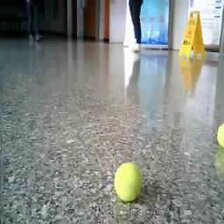tennis: (114, 163, 143, 202)
